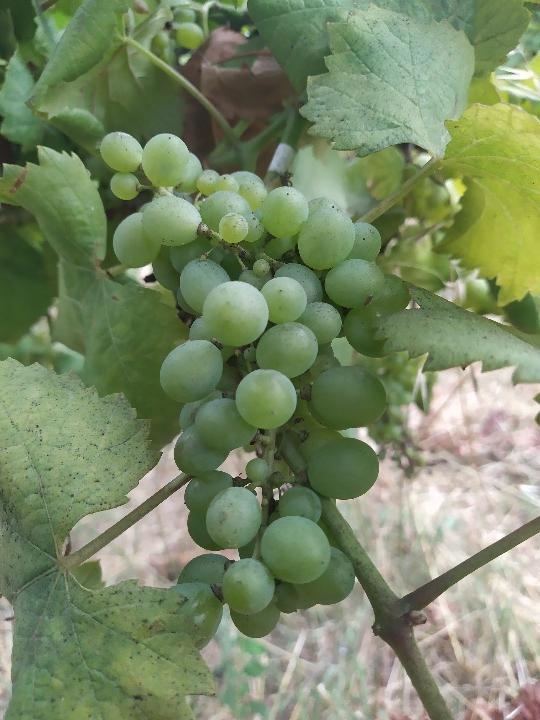grape: (97, 127, 411, 643)
